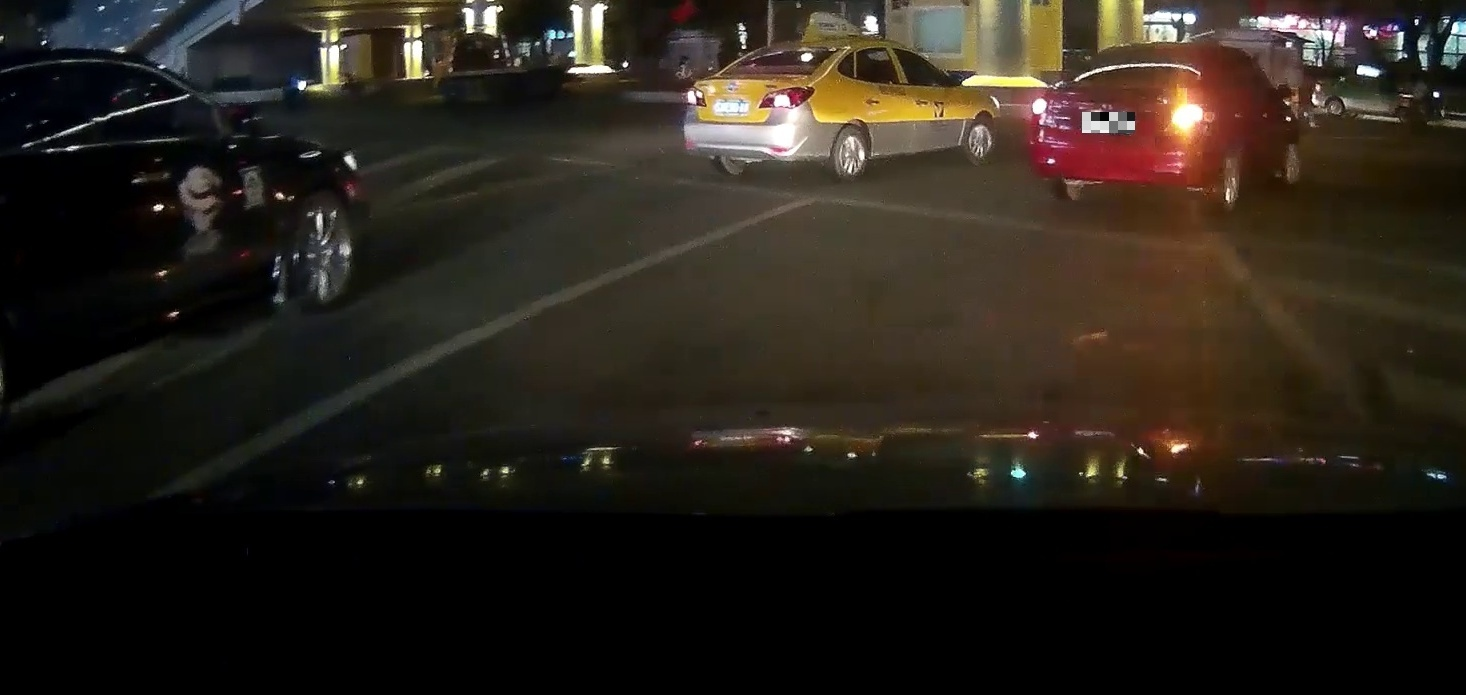L_light: (1031, 96, 1057, 128), (685, 86, 706, 107)
R_light: (758, 86, 815, 110), (1172, 104, 1203, 130)
T_light: (1138, 49, 1162, 52), (754, 71, 773, 74)
night-no: (683, 39, 850, 182)
night-right: (1028, 42, 1218, 213)
plate_1: (1082, 112, 1135, 133)
